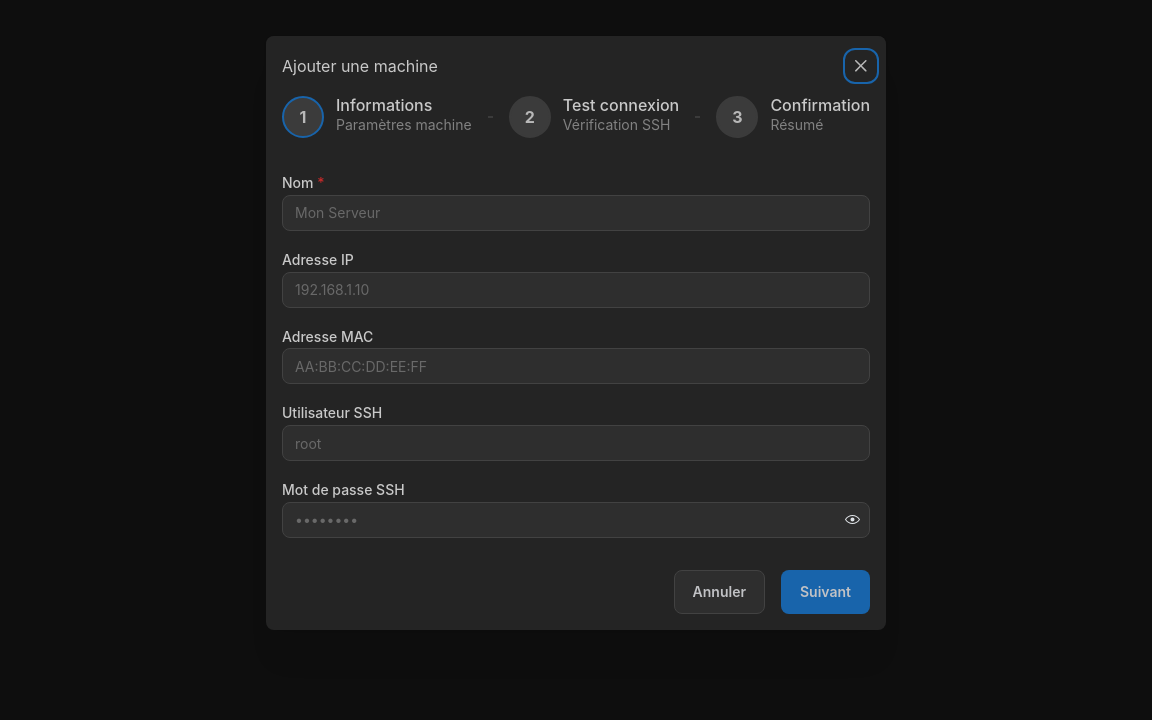
Test: AddMachineWizard › should validate IP format
Type "Test" into the field with placeholder "Mon Serveur" at point(576, 213), box [282,195,870,231]
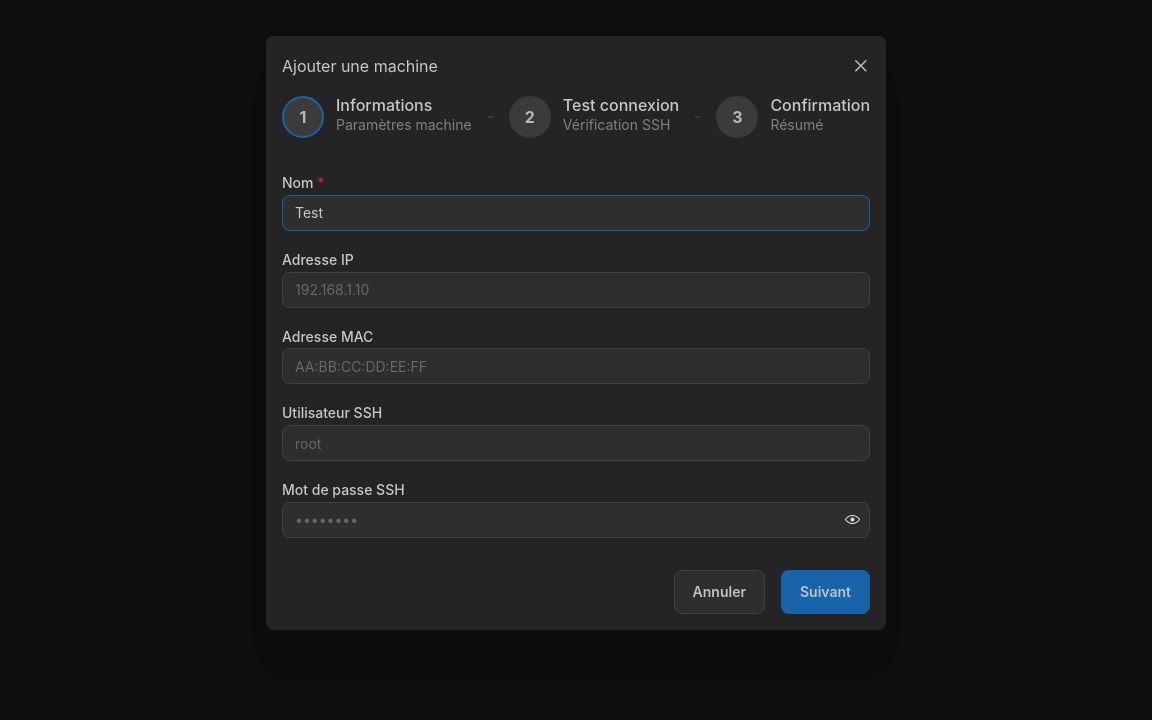
Type "invalid-ip" into the field with placeholder "192.168.1.10" at point(576, 290), box [282,272,870,308]
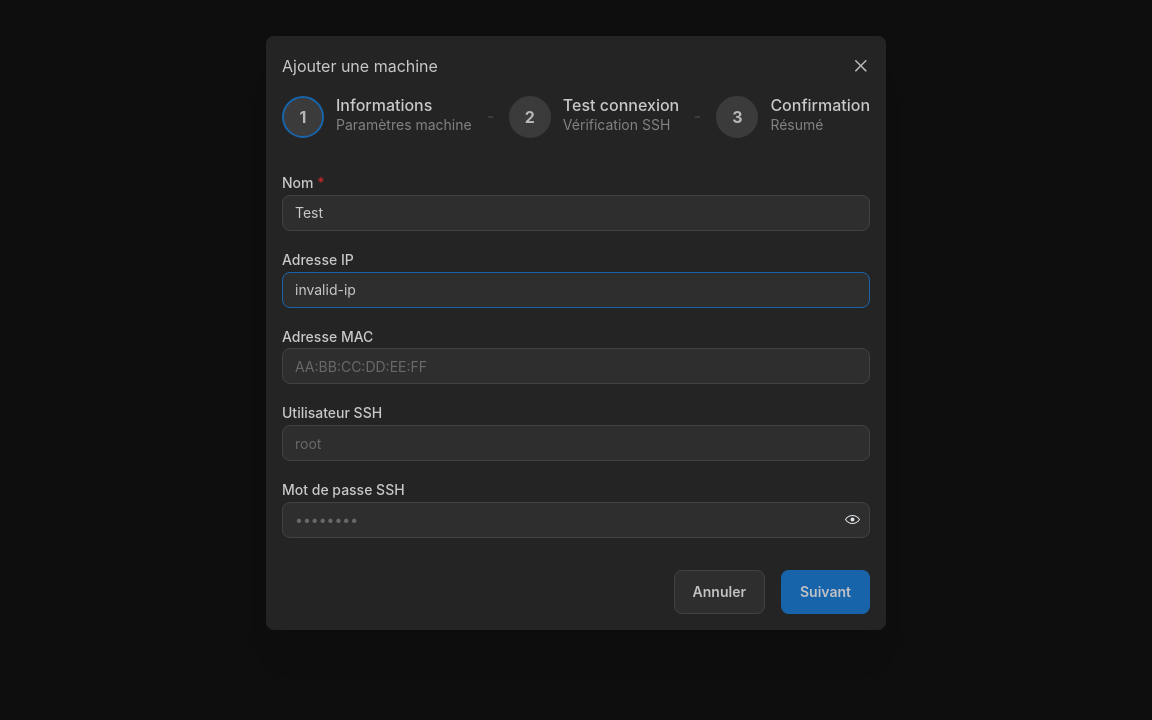
Click the button "Suivant" at point(826, 592), box [781,570,870,614]
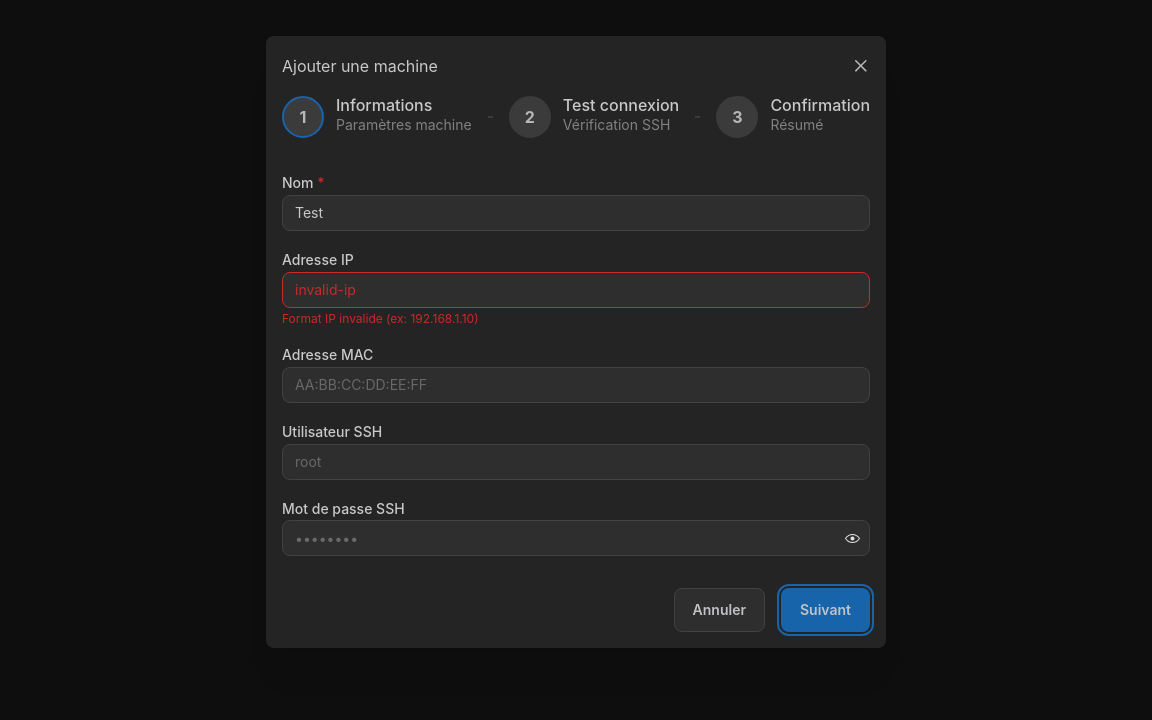
Now the text "Format IP invalide (ex: 192.168.1.10)" is shown, box [282,311,478,326]
